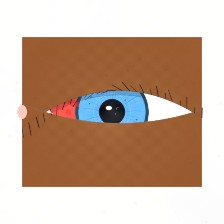hemorrhage_spot: (37, 74, 116, 137)
